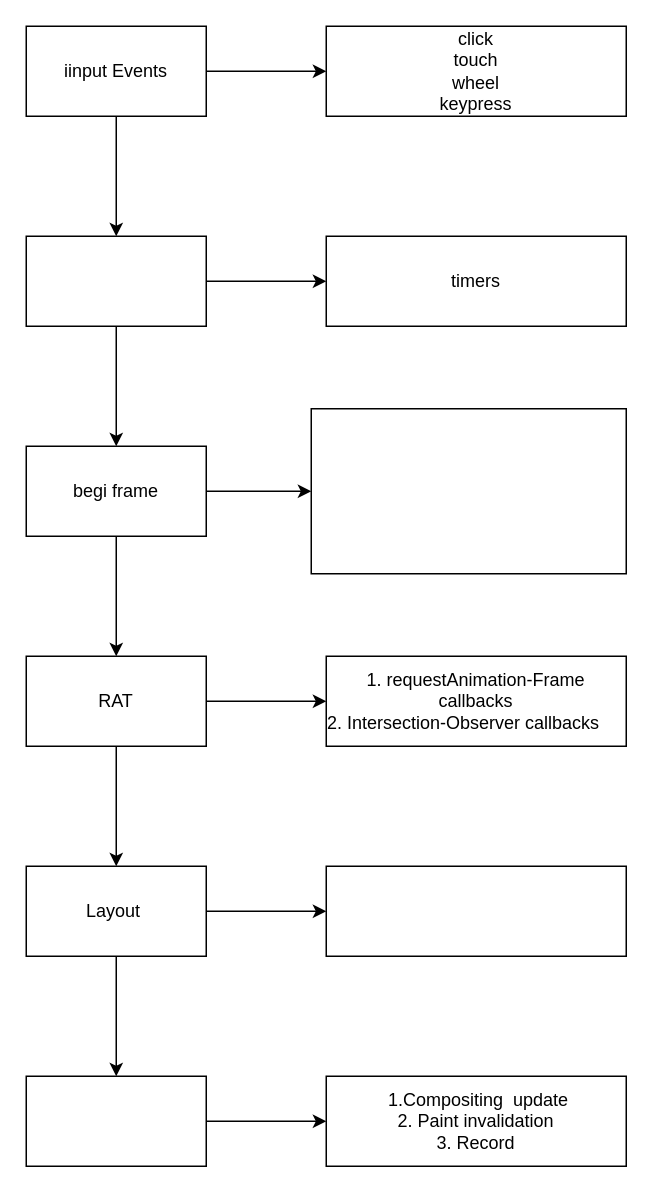
Image size: 653x1193. Some labels were removed from this diagram. The centre of each missing label's shape, as x and y in pixels:
"1. Recalc style 2. Update layout 3. resize-Observer callbacks" belongs at (475,910).
"js" belongs at (115,280).
"Paint" belongs at (115,1120).
"per frame events 1. window resize 2.scroll 3. mediaquery changed 4. animation" belongs at (468,490).
